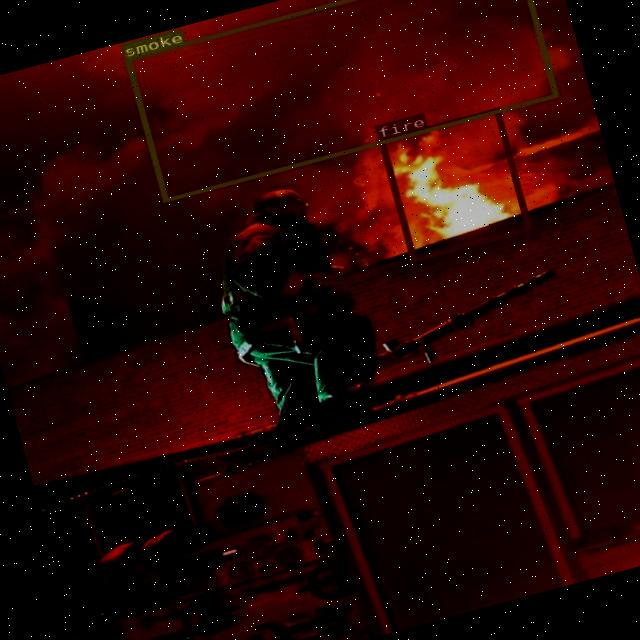fire: (378, 106, 530, 261)
smoke: (123, 0, 557, 202)
